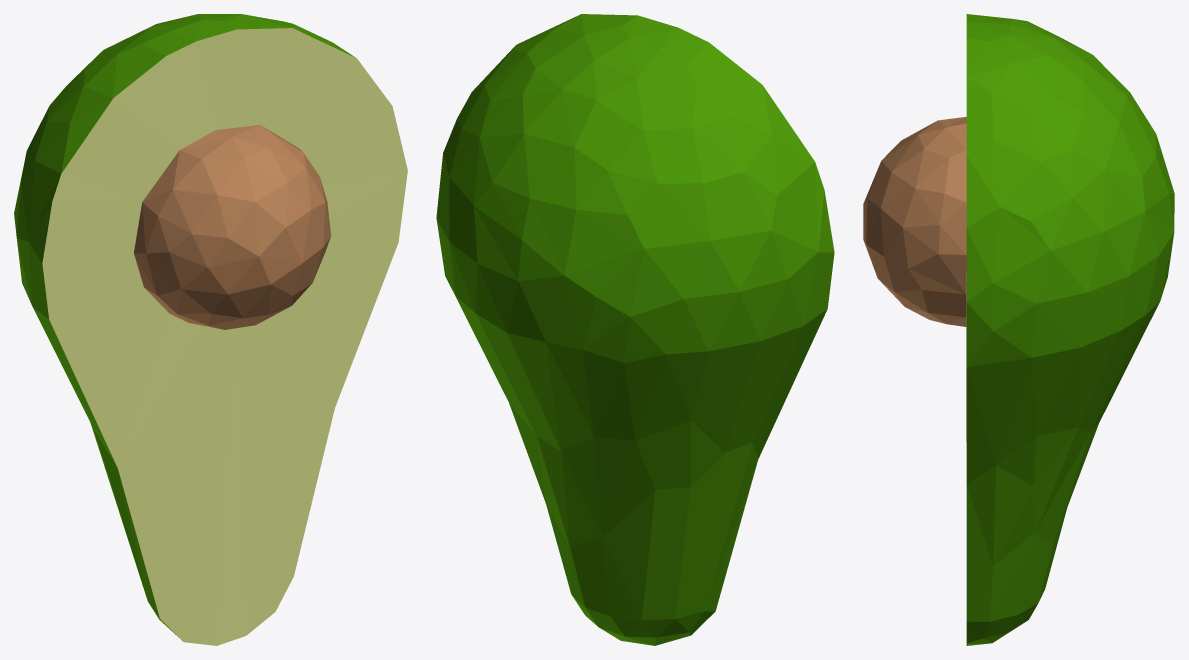
The picture shows the model from 3 angles, left to right: view 1: azimuth 30°, elevation 25°; view 2: azimuth 150°, elevation 25°; view 3: azimuth 270°, elevation 25°; orthographic projection. The views are drawn at different scales.
Parts seen in each view (by area): view 1: 零件6; view 2: 零件6; view 3: 零件6.
Boxes of the visible parts, x1=… form: 零件6: x1=14, y1=14, x2=407, y2=645; 零件6: x1=436, y1=14, x2=834, y2=645; 零件6: x1=863, y1=14, x2=1174, y2=645.
Size of the model in its own units: 5004 by 8002 by 3729.
